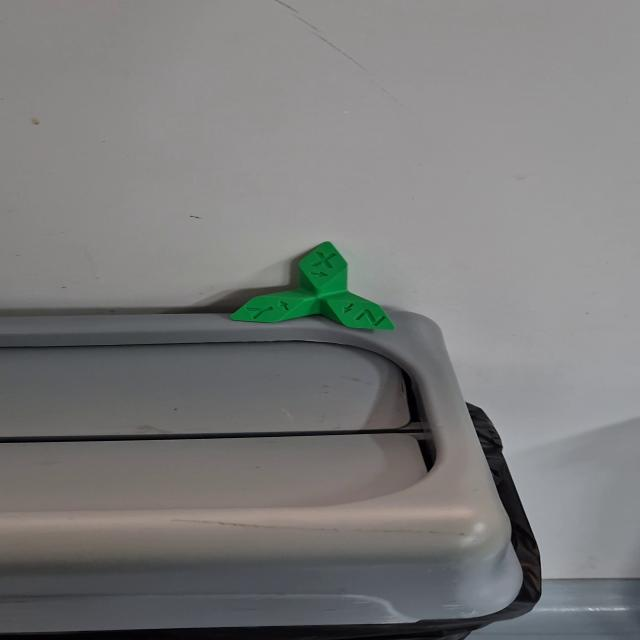objects: (227, 240, 397, 332)
